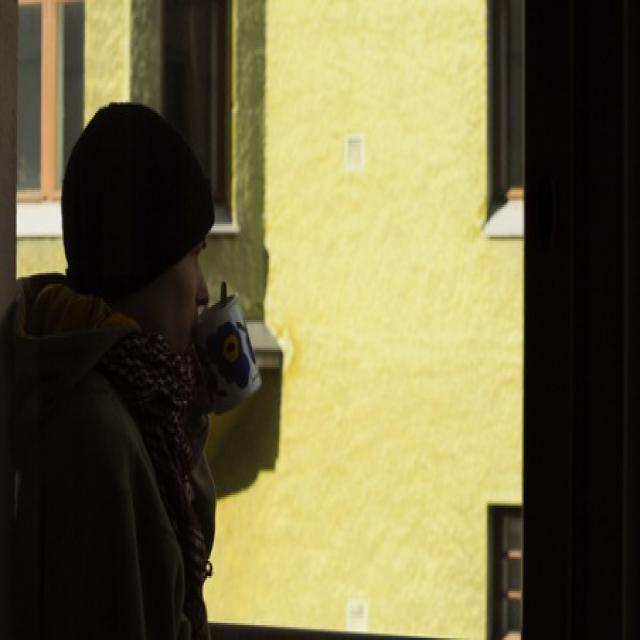Cup: (197, 277, 275, 451)
People: (7, 63, 231, 640)
